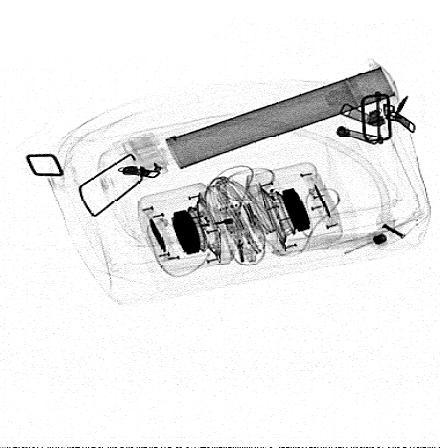Lighter: (325, 228, 391, 264)
